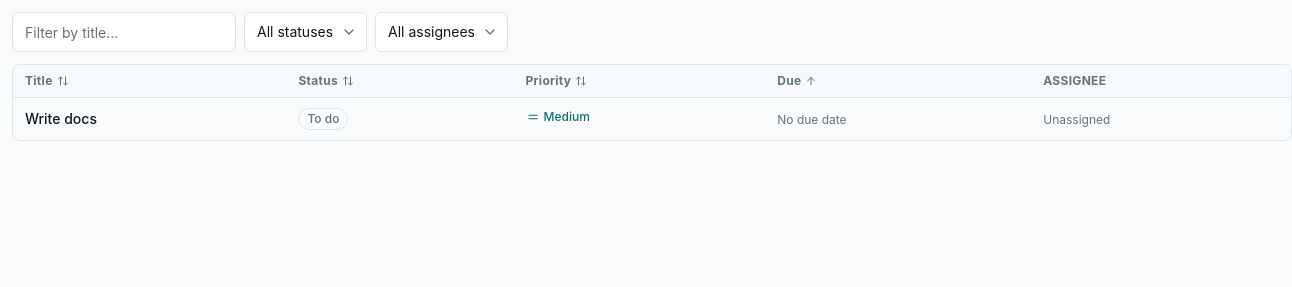
Scenario: TaskListView › shows an empty state when no task matches the filters
Type "nonexistent" into the field with placeholder "Filter by title...". click: (124, 32)
box: [12,12,236,52]
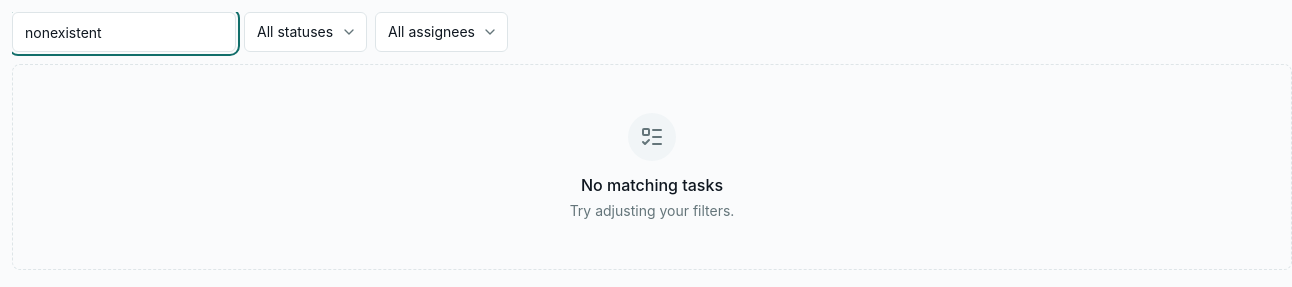
Expected: the text "No matching tasks" is shown, [570,173,734,197]
